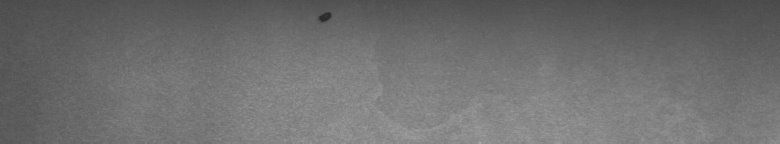fi: (312, 8, 336, 28)
